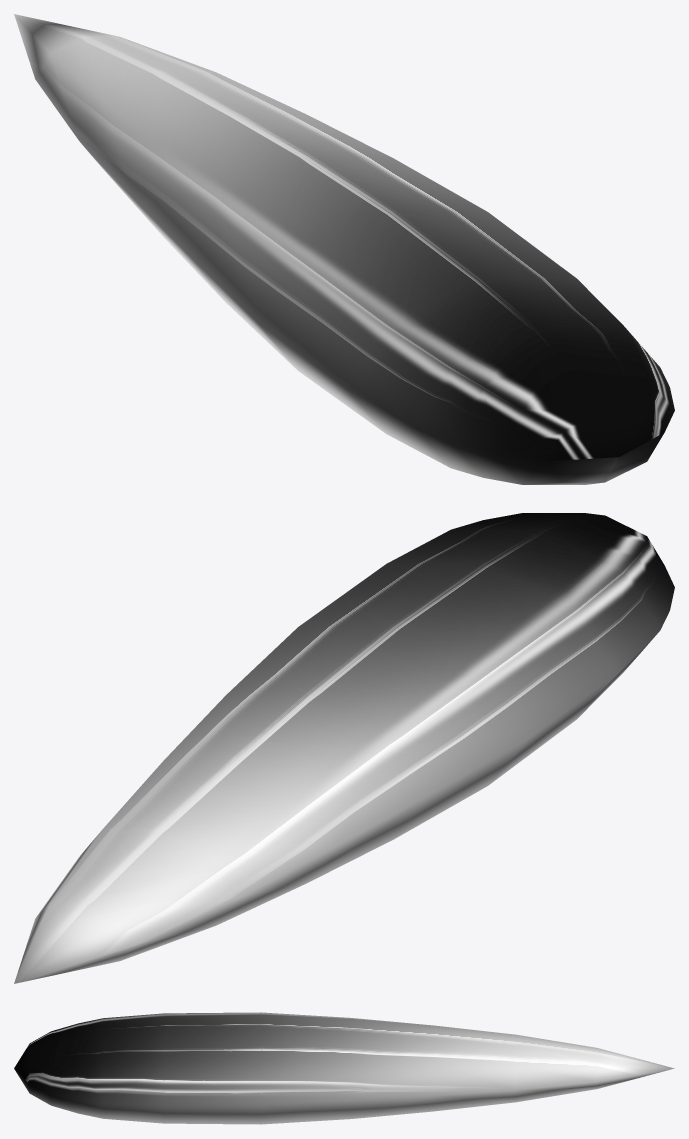
File: Boost.fbx
3 views of the same model, one above another, from view 1: azimuth 30°, elevation 25°; view 2: azimuth 150°, elevation 25°; view 3: azimuth 270°, elevation 25° (orthographic). The views are drawn at different scales.
Visible parts, largest first — view 1: BoostEffect_Mesh; view 2: BoostEffect_Mesh; view 3: BoostEffect_Mesh.
Boxes of the visible parts, x1,y1,x2,y2 form: BoostEffect_Mesh: (14,14,674,484); BoostEffect_Mesh: (14,513,674,983); BoostEffect_Mesh: (14,1012,674,1124).
Size of the model in its own units: 127 by 72.22 by 496.
Materials: 1 (1 with a texture image).
